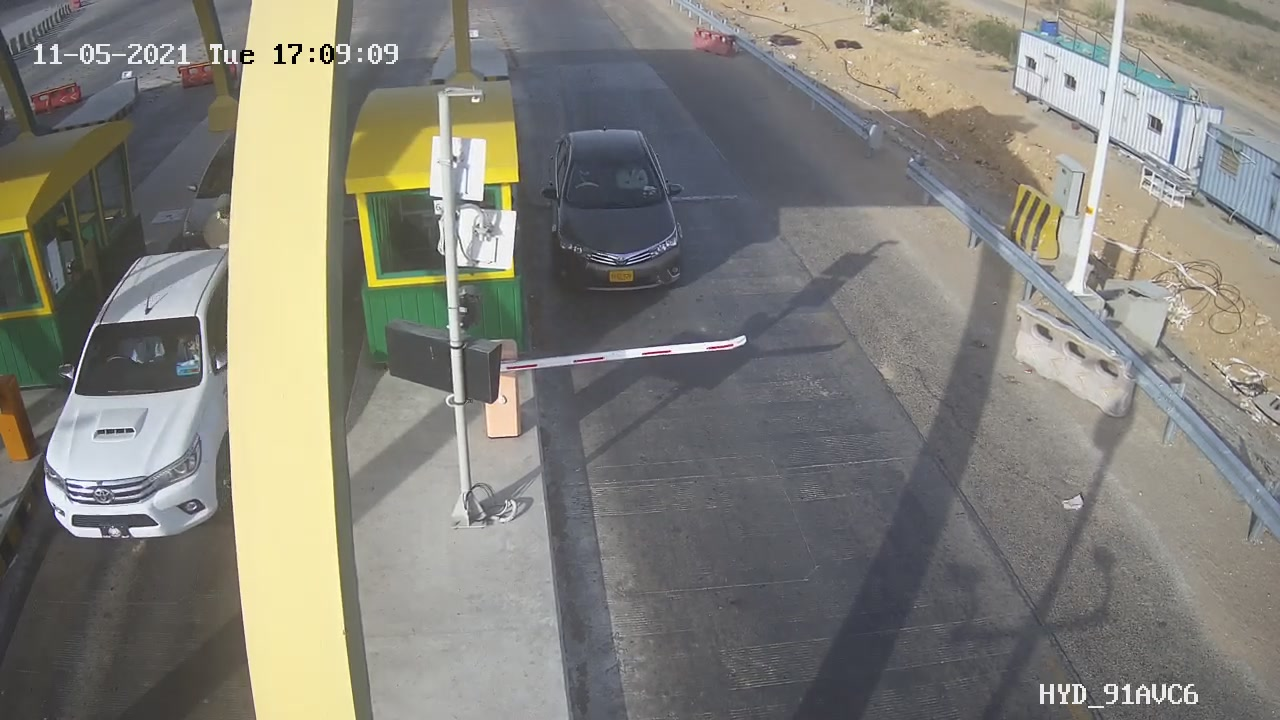F1: (529, 107, 713, 322)
